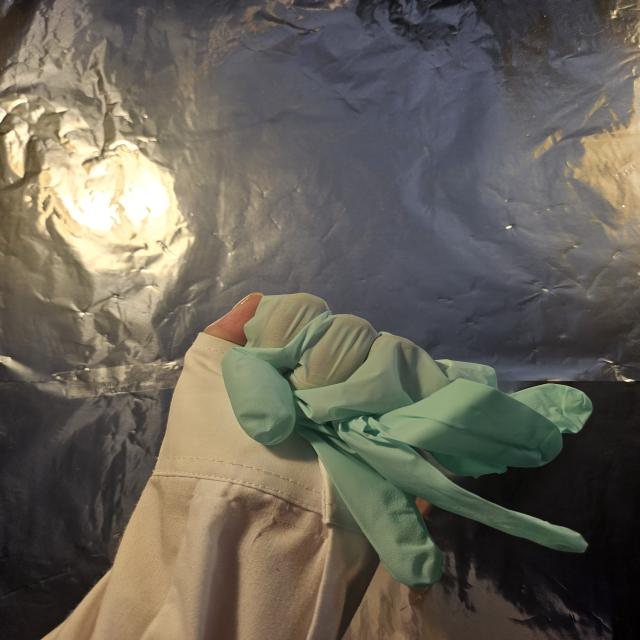glove_partial: (197, 290, 594, 587)
